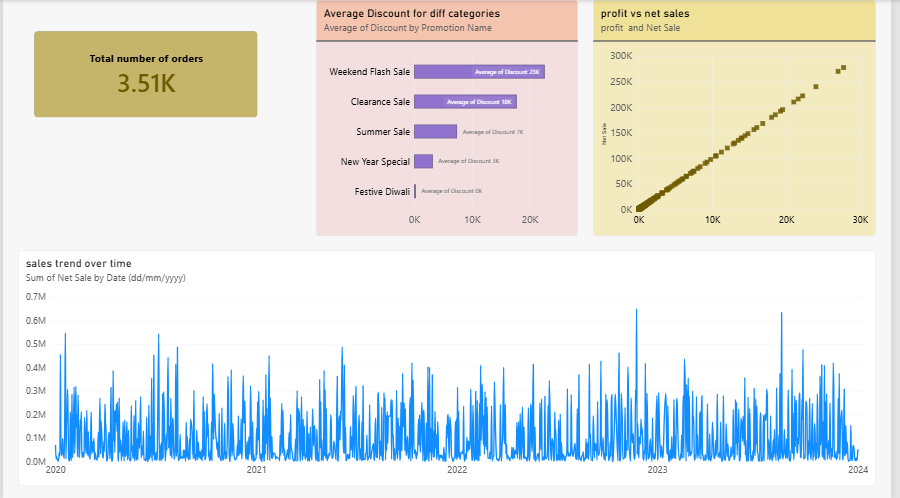

Layout of this report page (visuals, bound fields, positions):
{"tool":"powerbi","page":{"name":"trends over time","canvas":[1920,1080],"ordinal":1},"visuals":[{"type":"lineChart","title":"sales trend over time","fields":{"Category":["Fact Table.Date (dd/mm/yyyy).Variation.Date Hierarchy.Year"],"Y":["Sum(Fact Table.Net Sale)"]},"box":[32.4,540,1853.3,509.8],"z":0},{"type":"scatterChart","title":"profit vs net sales","fields":{"X":["Fact Table.profit "],"Y":["Fact Table.Net Sale"]},"box":[1274.4,0,611.3,509.8],"z":1000},{"type":"barChart","title":"Average Discount for diff categories","fields":{"Category":["Dim Promotion.Promotion Name"],"Y":["Avg(Fact Table.Discount)"]},"box":[676.1,0,565.9,509.8],"z":2000},{"type":"cardVisual","fields":{"Data":["Count(Fact Table.Index)"]},"box":[67,67,483.8,187.9],"z":3000}]}

Visuals, with their boxes in screenshot pixels (x1, y1, x2, y2), scaled from the page's 1920x1080 canvas onto the 900x498 screenshot:
"sales trend over time" lineChart: x1=15 y1=249 x2=884 y2=484
"profit vs net sales" scatterChart: x1=597 y1=0 x2=884 y2=235
"Average Discount for diff categories" barChart: x1=317 y1=0 x2=582 y2=235
cardVisual - Count(Fact Table.Index): x1=31 y1=31 x2=258 y2=118
